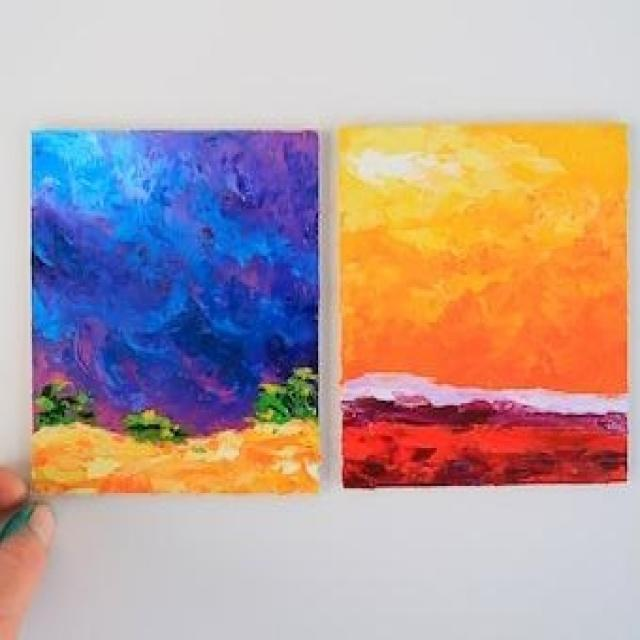painting: (30, 129, 325, 496), (336, 120, 629, 484)
